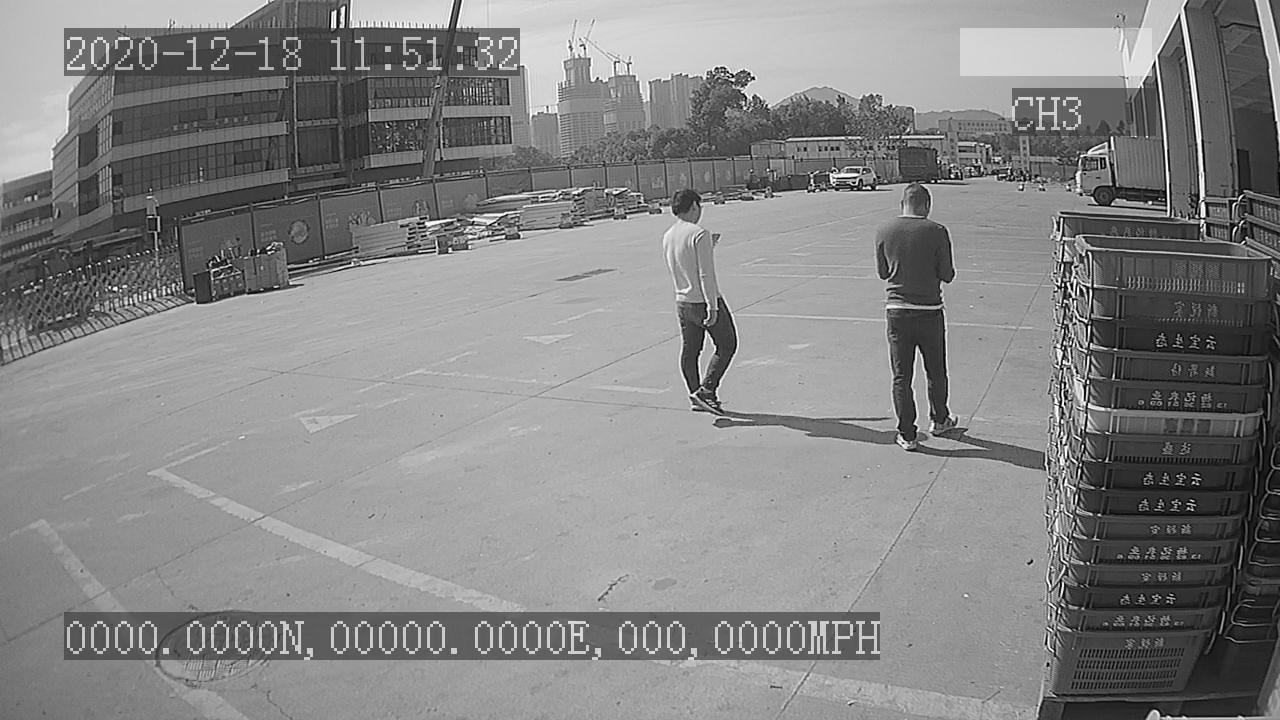person: (868, 177, 968, 458), (658, 185, 743, 422)
